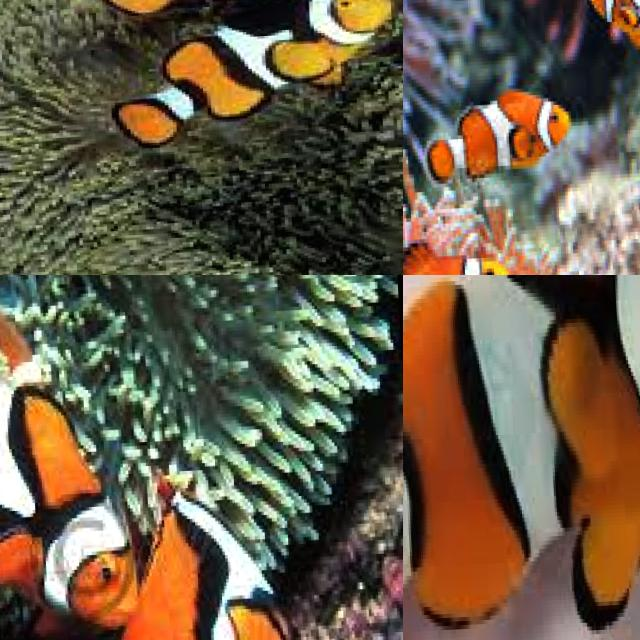Amphiprion-percula: (403, 275, 640, 640), (23, 446, 358, 640), (93, 0, 403, 191), (0, 275, 164, 623), (403, 62, 617, 225), (75, 0, 403, 100), (555, 0, 640, 72)
